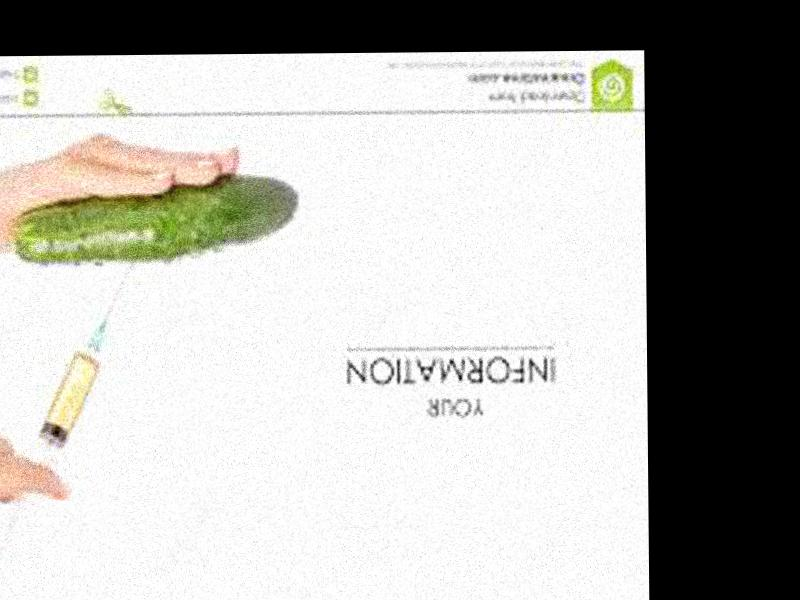Cucumber: (12, 176, 298, 263)
